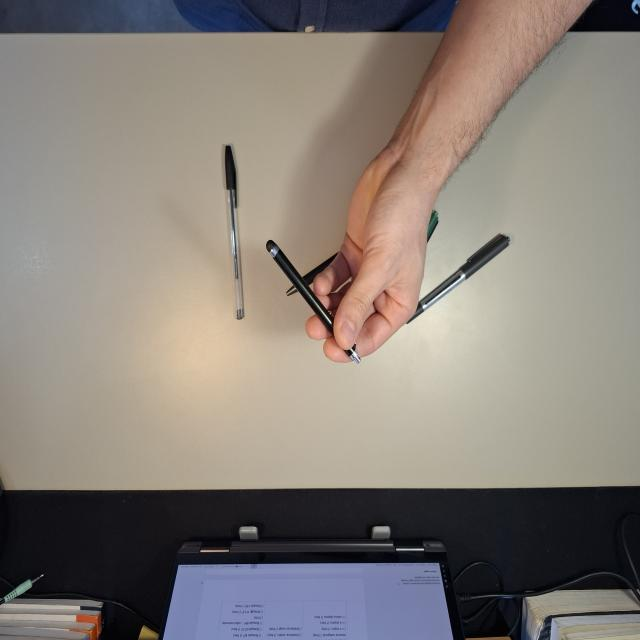glove_off: (304, 127, 439, 360)
